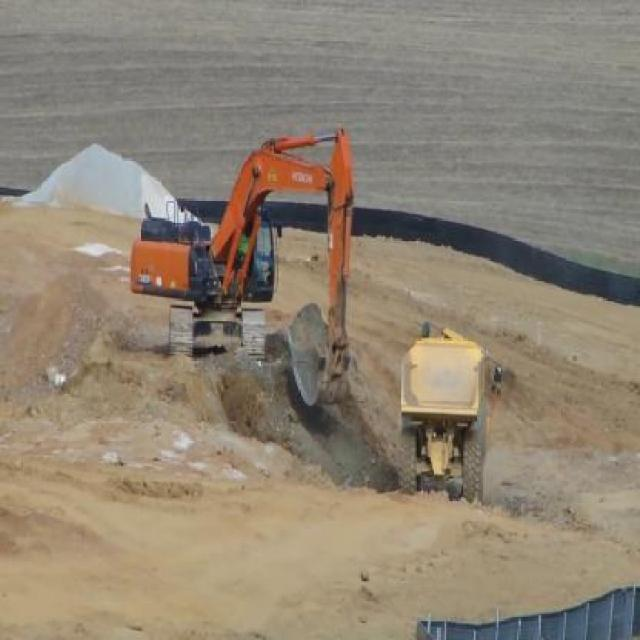Dump Truck: (394, 316, 492, 507)
Excavator: (130, 98, 355, 425)
